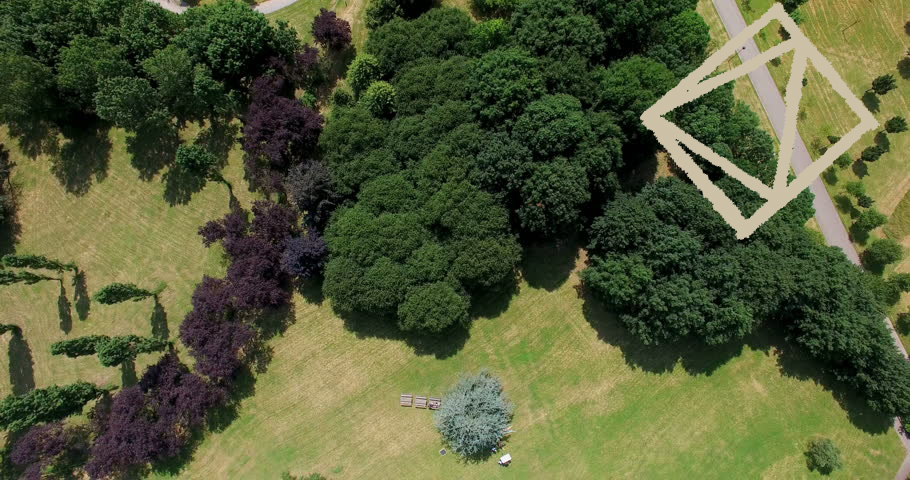marker: (638, 2, 883, 249)
